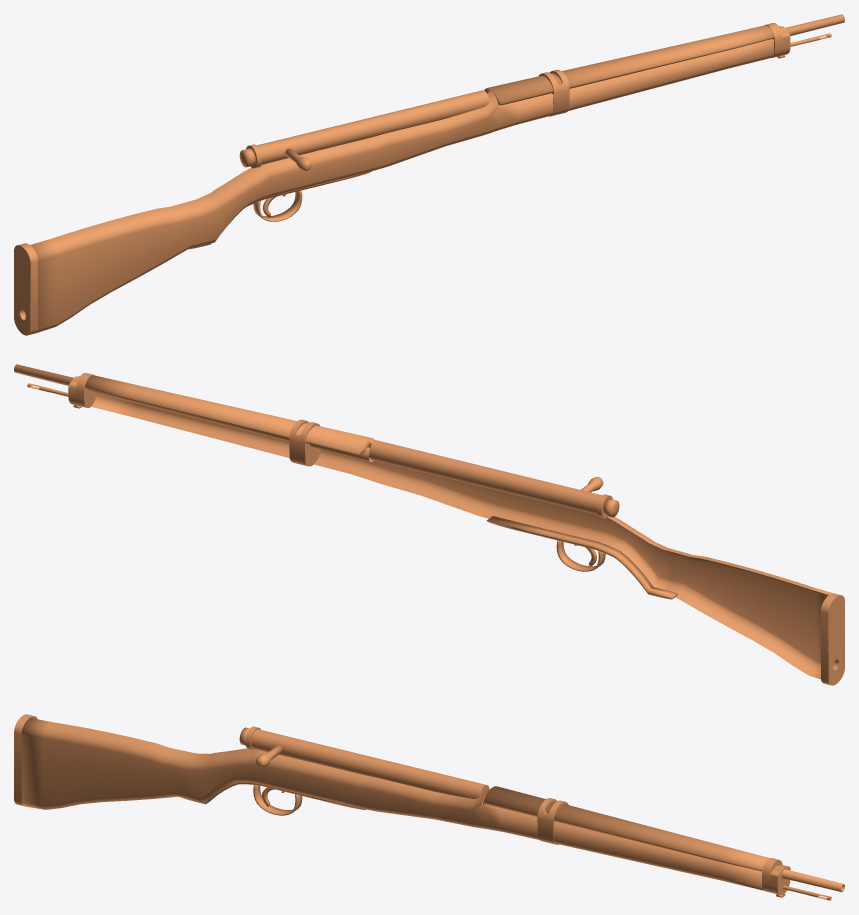
3 views of the same model, one above another, from view 1: azimuth 30°, elevation 25°; view 2: azimuth 150°, elevation 25°; view 3: azimuth 330°, elevation 25° (orthographic).
Visible parts, largest first — view 1: A99XX; view 2: A99XX; view 3: A99XX.
Boxes of the visible parts, bbox=[...] form: A99XX: bbox=[14, 14, 844, 335]; A99XX: bbox=[14, 364, 844, 685]; A99XX: bbox=[14, 714, 844, 900].
Bounding box in the file's own units: 180 × 27.6 × 12.54.
